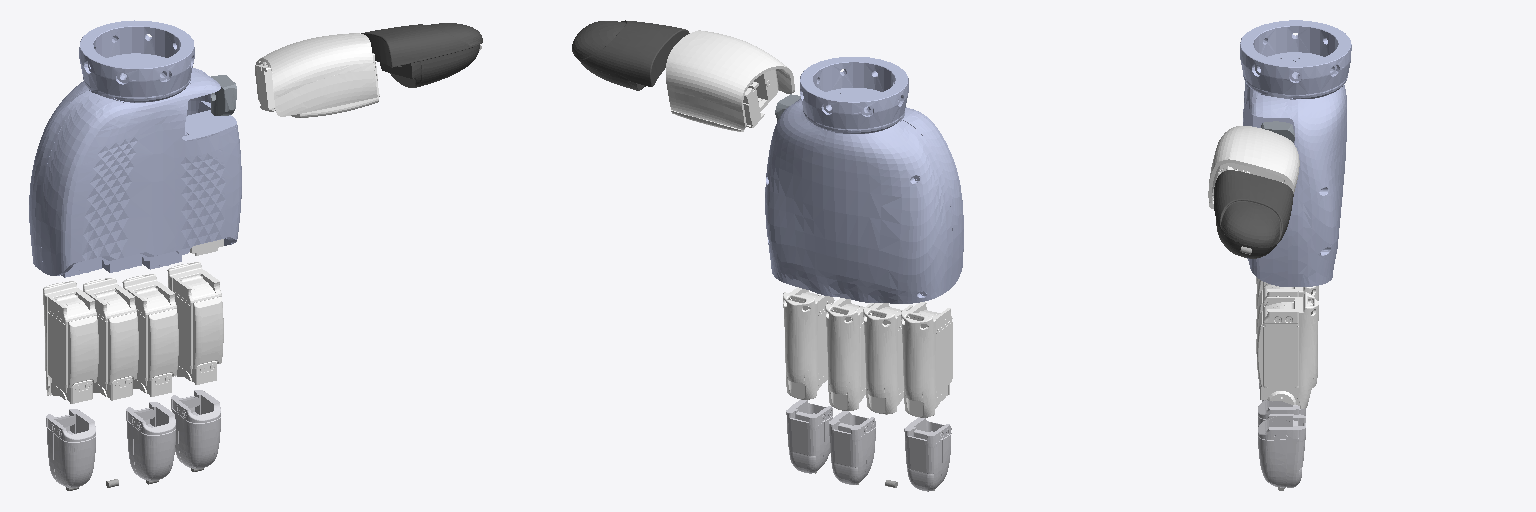
robot.urdf — xhand_left:
<?xml version="1.0" encoding="utf-8"?>
<!-- This URDF was automatically created by SolidWorks to URDF Exporter! Originally created by [author] ([email redacted]) 
     Commit Version: 1.6.0-4-g7f85cfe  Build Version: 1.6.7995.38578
     For more information, please see http://wiki.ros.org/sw_urdf_exporter -->
<robot name="xhand_left">
  <mujoco>
    <compiler meshdir="./meshes/" balanceinertia="true" discardvisual="false" />
  </mujoco>
  <link name="base_link">
  </link>
  <joint name="base_link_joint" type="fixed">
    <origin xyz="0 0 0.0" rpy="0 0 0" />
    <parent link="base_link" />
    <child link="left_hand_link" />
    <axis xyz="0 0 0" />
  </joint>
  <link name="left_hand_link">
    <inertial>
      <origin xyz="-0.00864938513630556 -0.00326690810975642 -0.0555569639549646" rpy="0 0 0" />
      <mass value="0.529944310592205" />
      <inertia ixx="0.000418985372588546" ixy="3.19284398454423E-06" ixz="-1.4224360742058E-05" iyy="0.000610580342357652" iyz="-2.24271246806261E-06" izz="0.000344172553571987" />
    </inertial>
    <visual>
      <origin xyz="0 0 0" rpy="0 0 0" />
      <geometry>
        <mesh filename="./meshes/left_hand_link.STL" />
      </geometry>
      <material name="">
        <color rgba="0.792156862745098 0.819607843137255 0.933333333333333 1" />
      </material>
    </visual>
    <collision>
      <origin xyz="0 0 0" rpy="0 0 0" />
      <geometry>
        <mesh filename="./meshes/left_hand_link.STL" />
      </geometry>
    </collision>
  </link>
  <link name="left_hand_ee_link">
    <inertial>
      <origin xyz="-1.69621793423315E-16 -7.89113564776902E-16 0" rpy="0 0 0" />
      <mass value="3.53429173528852E-08" />
      <inertia ixx="3.97607820219958E-14" ixy="2.1306062234609E-28" ixz="-6.0696092927852E-27" iyy="9.35114688295087E-14" iyz="2.40539124817171E-41" izz="9.35114688295086E-14" />
    </inertial>
    <visual>
      <origin xyz="0 0 0" rpy="0 0 0" />
      <geometry>
        <mesh filename="./meshes/left_hand_ee_link.STL" />
      </geometry>
      <material name="">
        <color rgba="0.698039215686274 0.698039215686274 0.698039215686274 1" />
      </material>
    </visual>
    <collision>
      <origin xyz="0 0 0" rpy="0 0 0" />
      <geometry>
        <mesh filename="./meshes/left_hand_ee_link.STL" />
      </geometry>
    </collision>
  </link>
  <joint name="left_hand_ee_joint" type="fixed">
    <origin xyz="0 0 -0.065" rpy="0 0 0" />
    <parent link="left_hand_link" />
    <child link="left_hand_ee_link" />
    <axis xyz="0 0 0" />
  </joint>
  <link name="left_hand_thumb_bend_link">
    <inertial>
      <origin xyz="0.0146951181783569 0.0010170558778431 0.000731323310503088" rpy="0 0 0" />
      <mass value="0.00988789386004912" />
      <inertia ixx="3.58716412139351E-07" ixy="-1.34105977059594E-08" ixz="-1.74484379968064E-08" iyy="2.30962520459155E-07" iyz="-2.48757133590212E-09" izz="2.11597841596506E-07" />
    </inertial>
    <visual>
      <origin xyz="0 0 0" rpy="0 0 0" />
      <geometry>
        <mesh filename="./meshes/left_hand_thumb_bend_link.STL" />
      </geometry>
      <material name="">
        <color rgba="0.615686274509804 0.643137254901961 0.674509803921569 1" />
      </material>
    </visual>
    <!-- <collision>
      <origin xyz="0 0 0" rpy="0 0 0" />
      <geometry>
        <mesh filename="./meshes/left_hand_thumb_bend_link.STL" />
      </geometry>
    </collision> -->
  </link>
  <joint name="left_hand_thumb_bend_joint" type="revolute">
    <origin xyz="0.0228 -0.0095 -0.0305" rpy="0 0 0" />
    <parent link="left_hand_link" />
    <child link="left_hand_thumb_bend_link" />
    <axis xyz="0 0 -1" />
    <limit lower="0" upper="1.83" effort="1.1" velocity="8.63" />
    <dynamics damping="1" friction="1" />
  </joint>
  <link name="left_hand_thumb_rota_link1">
    <inertial>
      <origin xyz="0.0287909625550219 -0.000242915671393474 0.00247391809705494" rpy="0 0 0" />
      <mass value="0.153155034156758" />
      <inertia ixx="2.78524098212563E-05" ixy="6.13812857719437E-07" ixz="-3.98638873366403E-07" iyy="2.82463477802506E-05" iyz="1.58606209561054E-07" izz="3.52591286553014E-05" />
    </inertial>
    <visual>
      <origin xyz="0 0 0" rpy="0 0 0" />
      <geometry>
        <mesh filename="./meshes/left_hand_thumb_rota_link1.STL" />
      </geometry>
      <material name="">
        <color rgba="1 1 1 1" />
      </material>
    </visual>
    <collision>
      <origin xyz="0 0 0" rpy="0 0 0" />
      <geometry>
        <mesh filename="./meshes/left_hand_thumb_rota_link1.STL" />
      </geometry>
    </collision>
  </link>
  <joint name="left_hand_thumb_rota_joint1" type="revolute">
    <origin xyz="0.0285986272129401 -0.00831765565268352 0.00177996188345445" rpy="-0.261799387798933 0 -0.0407002356493396" />
    <parent link="left_hand_thumb_bend_link" />
    <child link="left_hand_thumb_rota_link1" />
    <axis xyz="0 1 0" />
    <limit lower="-1.05" upper="1.57" effort="1.1" velocity="8.63" />
    <dynamics damping="1" friction="1" />
  </joint>
  <link name="left_hand_thumb_rota_link2">
    <inertial>
      <origin xyz="0.0246456234459003 2.69138722731738E-05 0.00357064212068477" rpy="0 0 0" />
      <mass value="0.0374005336514977" />
      <inertia ixx="3.92917396189104E-06" ixy="2.59293767017315E-09" ixz="6.44282025371109E-07" iyy="6.8488221061748E-06" iyz="6.06761479506332E-09" izz="7.99681697934097E-06" />
    </inertial>
    <visual>
      <origin xyz="0 0 0" rpy="0 0 0" />
      <geometry>
        <mesh filename="./meshes/left_hand_thumb_rota_link2.STL" />
      </geometry>
      <material name="">
        <color rgba="0.384313725490196 0.384313725490196 0.384313725490196 1" />
      </material>
    </visual>
    <collision>
      <origin xyz="0 0 0" rpy="0 0 0" />
      <geometry>
        <mesh filename="./meshes/left_hand_thumb_rota_link2.STL" />
      </geometry>
    </collision>
  </link>
  <joint name="left_hand_thumb_rota_joint2" type="revolute">
    <origin xyz="0.0552999999999999 0 0" rpy="0 0 0" />
    <parent link="left_hand_thumb_rota_link1" />
    <child link="left_hand_thumb_rota_link2" />
    <axis xyz="0 1 0" />
    <limit lower="-0.17" upper="1.83" effort="0.4" velocity="14.38" />
    <dynamics damping="1" friction="1" />
  </joint>
  <link name="left_hand_thumb_rota_tip">
    <inertial>
      <origin xyz="1.9728663147589E-13 8.24457366613296E-09 4.78089789979208E-15" rpy="0 0 0" />
      <mass value="3.53429173528852E-08" />
      <inertia ixx="9.35114688295088E-14" ixy="-4.24237404142101E-24" ixz="7.88860905221012E-31" iyy="3.97607820219958E-14" iyz="-1.27458623039275E-25" izz="9.35114688295087E-14" />
    </inertial>
    <visual>
      <origin xyz="0 0 0" rpy="0 0 0" />
      <geometry>
        <mesh filename="./meshes/left_hand_thumb_rota_tip.STL" />
      </geometry>
      <material name="">
        <color rgba="0.698039215686274 0.698039215686274 0.698039215686274 1" />
      </material>
    </visual>
    <collision>
      <origin xyz="0 0 0" rpy="0 0 0" />
      <geometry>
        <mesh filename="./meshes/left_hand_thumb_rota_tip.STL" />
      </geometry>
    </collision>
  </link>
  <joint name="left_hand_thumb_rota_joint3" type="fixed">
    <origin xyz="0.0504024555173588 0 0" rpy="0 0 0" />
    <parent link="left_hand_thumb_rota_link2" />
    <child link="left_hand_thumb_rota_tip" />
    <axis xyz="0 0 0" />
  </joint>
  <link name="left_hand_index_bend_link">
    <inertial>
      <origin xyz="-1.36538073638344E-05 -0.000296873462797107 0.0089696893565222" rpy="0 0 0" />
      <mass value="0.0678358392130179" />
      <inertia ixx="1.24579812319209E-05" ixy="-4.99427571322602E-10" ixz="-1.65009806493618E-08" iyy="1.16208585294442E-05" iyz="1.16944382314648E-06" izz="4.10931551097276E-06" />
    </inertial>
    <visual>
      <origin xyz="0 0 0" rpy="0 0 0" />
      <geometry>
        <mesh filename="./meshes/left_hand_index_bend_link.STL" />
      </geometry>
      <material name="">
        <color rgba="1 1 1 1" />
      </material>
    </visual>
    <!-- <collision>
      <origin xyz="0 0 0" rpy="0 0 0" />
      <geometry>
        <mesh filename="./meshes/left_hand_index_bend_link.STL" />
      </geometry>
    </collision> -->
  </link>
  <joint name="left_hand_index_bend_joint" type="revolute">
    <origin xyz="0.0265 -0.0065 -0.0899" rpy="0 0 0" />
    <parent link="left_hand_link" />
    <child link="left_hand_index_bend_link" />
    <axis xyz="0 -1 0" />
    <limit lower="-0.175" upper="0.175" effort="0.4" velocity="14.38" />
    <dynamics damping="1" friction="1" />
  </joint>
  <link name="left_hand_index_rota_link1">
    <inertial>
      <origin xyz="-1.33092584226023E-05 0.00117935465893214 -0.0314667592065465" rpy="0 0 0" />
      <mass value="0.0630023008144735" />
      <inertia ixx="1.2745607748276E-05" ixy="1.11697612170963E-08" ixz="-6.33464596137012E-08" iyy="1.13159526064873E-05" iyz="-7.4065747898706E-08" izz="3.96846238389722E-06" />
    </inertial>
    <visual>
      <origin xyz="0 0 0" rpy="0 0 0" />
      <geometry>
        <mesh filename="./meshes/left_hand_index_rota_link1.STL" />
      </geometry>
      <material name="">
        <color rgba="1 1 1 1" />
      </material>
    </visual>
    <collision>
      <origin xyz="0 0 0" rpy="0 0 0" />
      <geometry>
        <mesh filename="./meshes/left_hand_index_rota_link1.STL" />
      </geometry>
    </collision>
  </link>
  <joint name="left_hand_index_joint1" type="revolute">
    <origin xyz="0 0 -0.0178" rpy="0 0 0" />
    <parent link="left_hand_index_bend_link" />
    <child link="left_hand_index_rota_link1" />
    <axis xyz="-1 0 0" />
    <limit lower="0" upper="1.92" effort="1.1" velocity="8.63" />
    <dynamics damping="1" friction="1" />
  </joint>
  <link name="left_hand_index_rota_link2">
    <inertial>
      <origin xyz="0.000105984925146081 0.000552347223597082 -0.0269533774742111" rpy="0 0 0" />
      <mass value="0.017978306795458" />
      <inertia ixx="1.57447652114977E-06" ixy="2.76146301079716E-09" ixz="-2.28756514380631E-08" iyy="1.41206918399455E-06" iyz="-7.17000486348478E-09" izz="9.25906469018155E-07" />
    </inertial>
    <visual>
      <origin xyz="0 0 0" rpy="0 0 0" />
      <geometry>
        <mesh filename="./meshes/left_hand_index_rota_link2.STL" />
      </geometry>
      <material name="">
        <color rgba="0.866666666666667 0.866666666666667 0.890196078431372 1" />
      </material>
    </visual>
    <collision>
      <origin xyz="0 0 0" rpy="0 0 0" />
      <geometry>
        <mesh filename="./meshes/left_hand_index_rota_link2.STL" />
      </geometry>
    </collision>
  </link>
  <joint name="left_hand_index_joint2" type="revolute">
    <origin xyz="0 0 -0.0558" rpy="0 0 0" />
    <parent link="left_hand_index_rota_link1" />
    <child link="left_hand_index_rota_link2" />
    <axis xyz="-1 0 0" />
    <limit lower="0" upper="1.92" effort="0.4" velocity="14.38" />
    <dynamics damping="1" friction="1" />
  </joint>
  <link name="left_hand_index_rota_tip">
    <inertial>
      <origin xyz="-9.29811783123569E-16 -2.63938176869871E-15 -8.32667268468867E-17" rpy="0 0 0" />
      <mass value="3.53429173528852E-08" />
      <inertia ixx="3.97607820219958E-14" ixy="2.0659827381052E-28" ixz="2.52777196678214E-29" iyy="9.35114688295087E-14" iyz="-1.34524652575182E-43" izz="9.35114688295087E-14" />
    </inertial>
    <visual>
      <origin xyz="0 0 0" rpy="0 0 0" />
      <geometry>
        <mesh filename="./meshes/left_hand_index_rota_tip.STL" />
      </geometry>
      <material name="">
        <color rgba="0.698039215686274 0.698039215686274 0.698039215686274 1" />
      </material>
    </visual>
    <collision>
      <origin xyz="0 0 0" rpy="0 0 0" />
      <geometry>
        <mesh filename="./meshes/left_hand_index_rota_tip.STL" />
      </geometry>
    </collision>
  </link>
  <joint name="left_hand_index_rota_joint3" type="fixed">
    <origin xyz="0 0 -0.0424999999999999" rpy="0 0 0" />
    <parent link="left_hand_index_rota_link2" />
    <child link="left_hand_index_rota_tip" />
    <axis xyz="0 0 0" />
  </joint>
  <link name="left_hand_mid_link1">
    <inertial>
      <origin xyz="-1.33093186277912E-05 0.00117935480050193 -0.0314667591863722" rpy="0 0 0" />
      <mass value="0.0630023022013301" />
      <inertia ixx="1.27456081957855E-05" ixy="1.11697922297878E-08" ixz="-6.33466790814787E-08" iyy="1.13159531276305E-05" iyz="-7.40657415672241E-08" izz="3.96846251967624E-06" />
    </inertial>
    <visual>
      <origin xyz="0 0 0" rpy="0 0 0" />
      <geometry>
        <mesh filename="./meshes/left_hand_mid_link1.STL" />
      </geometry>
      <material name="">
        <color rgba="1 1 1 1" />
      </material>
    </visual>
    <collision>
      <origin xyz="0 0 0" rpy="0 0 0" />
      <geometry>
        <mesh filename="./meshes/left_hand_mid_link1.STL" />
      </geometry>
    </collision>
  </link>
  <joint name="left_hand_mid_joint1" type="revolute">
    <origin xyz="0.004 -0.0065 -0.1082" rpy="0 0 0" />
    <parent link="left_hand_link" />
    <child link="left_hand_mid_link1" />
    <axis xyz="-1 0 0" />
    <limit lower="0" upper="1.92" effort="1.1" velocity="8.63" />
    <dynamics damping="1" friction="1" />
  </joint>
  <link name="left_hand_mid_link2">
    <inertial>
      <origin xyz="0.000105984928455458 0.000552347222436347 -0.0269533774807861" rpy="0 0 0" />
      <mass value="0.0179783068080897" />
      <inertia ixx="1.57447652237869E-06" ixy="2.76146317048659E-09" ixz="-2.28756508518856E-08" iyy="1.41206918545466E-06" iyz="-7.17000503278344E-09" izz="9.25906469321219E-07" />
    </inertial>
    <visual>
      <origin xyz="0 0 0" rpy="0 0 0" />
      <geometry>
        <mesh filename="./meshes/left_hand_mid_link2.STL" />
      </geometry>
      <material name="">
        <color rgba="0.866666666666667 0.866666666666667 0.890196078431372 1" />
      </material>
    </visual>
    <collision>
      <origin xyz="0 0 0" rpy="0 0 0" />
      <geometry>
        <mesh filename="./meshes/left_hand_mid_link2.STL" />
      </geometry>
    </collision>
  </link>
  <joint name="left_hand_mid_joint2" type="revolute">
    <origin xyz="0 0 -0.0558" rpy="0 0 0" />
    <parent link="left_hand_mid_link1" />
    <child link="left_hand_mid_link2" />
    <axis xyz="-1 0 0" />
    <limit lower="0" upper="1.92" effort="0.4" velocity="14.38" />
    <dynamics damping="1" friction="1" />
  </joint>
  <link name="left_hand_mid_tip">
    <inertial>
      <origin xyz="-5.69856661858381E-16 2.09944908680093E-14 -2.4980018054066E-16" rpy="0 0 0" />
      <mass value="3.53429173528852E-08" />
      <inertia ixx="3.97607820219958E-14" ixy="2.08752389989043E-28" ixz="2.52777196678215E-29" iyy="9.35114688295087E-14" iyz="-1.79366203433577E-43" izz="9.35114688295086E-14" />
    </inertial>
    <visual>
      <origin xyz="0 0 0" rpy="0 0 0" />
      <geometry>
        <mesh filename="./meshes/left_hand_mid_tip.STL" />
      </geometry>
      <material name="">
        <color rgba="0.698039215686274 0.698039215686274 0.698039215686274 1" />
      </material>
    </visual>
    <collision>
      <origin xyz="0 0 0" rpy="0 0 0" />
      <geometry>
        <mesh filename="./meshes/left_hand_mid_tip.STL" />
      </geometry>
    </collision>
  </link>
  <joint name="left_hand_mid_joint3" type="fixed">
    <origin xyz="0 0 -0.042500000000001" rpy="0 0 0" />
    <parent link="left_hand_mid_link2" />
    <child link="left_hand_mid_tip" />
    <axis xyz="0 0 0" />
  </joint>
  <link name="left_hand_ring_link1">
    <inertial>
      <origin xyz="-1.33096483662491E-05 0.00117935450409436 -0.0314667596675611" rpy="0 0 0" />
      <mass value="0.0630023002480442" />
      <inertia ixx="1.27456074975177E-05" ixy="1.11699975266944E-08" ixz="-6.33465151788219E-08" iyy="1.13159525096134E-05" iyz="-7.40654037517664E-08" izz="3.96846226001982E-06" />
    </inertial>
    <visual>
      <origin xyz="0 0 0" rpy="0 0 0" />
      <geometry>
        <mesh filename="./meshes/left_hand_ring_link1.STL" />
      </geometry>
      <material name="">
        <color rgba="1 1 1 1" />
      </material>
    </visual>
    <collision>
      <origin xyz="0 0 0" rpy="0 0 0" />
      <geometry>
        <mesh filename="./meshes/left_hand_ring_link1.STL" />
      </geometry>
    </collision>
  </link>
  <joint name="left_hand_ring_joint1" type="revolute">
    <origin xyz="-0.016 -0.0065 -0.1052" rpy="0 0 0" />
    <parent link="left_hand_link" />
    <child link="left_hand_ring_link1" />
    <axis xyz="-1 0 0" />
    <limit lower="0" upper="1.92" effort="1.1" velocity="8.63" />
    <dynamics damping="1" friction="1" />
  </joint>
  <link name="left_hand_ring_link2">
    <inertial>
      <origin xyz="0.000105984925353953 0.00055234722341907 -0.0269533774746112" rpy="0 0 0" />
      <mass value="0.0179783067963059" />
      <inertia ixx="1.57447652123335E-06" ixy="2.76146302722388E-09" ixz="-2.2875651400635E-08" iyy="1.41206918407907E-06" iyz="-7.17000489119851E-09" izz="9.25906469042038E-07" />
    </inertial>
    <visual>
      <origin xyz="0 0 0" rpy="0 0 0" />
      <geometry>
        <mesh filename="./meshes/left_hand_ring_link2.STL" />
      </geometry>
      <material name="">
        <color rgba="0.866666666666667 0.866666666666667 0.890196078431372 1" />
      </material>
    </visual>
    <collision>
      <origin xyz="0 0 0" rpy="0 0 0" />
      <geometry>
        <mesh filename="./meshes/left_hand_ring_link2.STL" />
      </geometry>
    </collision>
  </link>
  <joint name="left_hand_ring_joint2" type="revolute">
    <origin xyz="0 0 -0.0558" rpy="0 0 0" />
    <parent link="left_hand_ring_link1" />
    <child link="left_hand_ring_link2" />
    <axis xyz="-1 0 0" />
    <limit lower="0" upper="1.92" effort="0.4" velocity="14.38" />
    <dynamics damping="1" friction="1" />
  </joint>
  <link name="left_hand_ring_tip">
    <inertial>
      <origin xyz="-5.41233724504764E-16 -5.26488574958961E-16 -2.22044604925031E-16" rpy="0 0 0" />
      <mass value="3.53429173528852E-08" />
      <inertia ixx="3.97607820219958E-14" ixy="2.08752389989043E-28" ixz="2.52777196678215E-29" iyy="9.35114688295087E-14" iyz="-1.79366203433577E-43" izz="9.35114688295087E-14" />
    </inertial>
    <visual>
      <origin xyz="0 0 0" rpy="0 0 0" />
      <geometry>
        <mesh filename="./meshes/left_hand_ring_tip.STL" />
      </geometry>
      <material name="">
        <color rgba="0.698039215686274 0.698039215686274 0.698039215686274 1" />
      </material>
    </visual>
    <collision>
      <origin xyz="0 0 0" rpy="0 0 0" />
      <geometry>
        <mesh filename="./meshes/left_hand_ring_tip.STL" />
      </geometry>
    </collision>
  </link>
  <joint name="left_hand_ring_joint3" type="fixed">
    <origin xyz="0 0 -0.0424999999999995" rpy="0 0 0" />
    <parent link="left_hand_ring_link2" />
    <child link="left_hand_ring_tip" />
    <axis xyz="0 0 0" />
  </joint>
  <link name="left_hand_pinky_link1">
    <inertial>
      <origin xyz="-1.33096859500845E-05 0.00117935408946108 -0.0314667601427276" rpy="0 0 0" />
      <mass value="0.0630022982822898" />
      <inertia ixx="1.27456068030847E-05" ixy="1.11700454508605E-08" ixz="-6.33463944280954E-08" iyy="1.13159521295488E-05" iyz="-7.40650389817798E-08" izz="3.9684619246592E-06" />
    </inertial>
    <visual>
      <origin xyz="0 0 0" rpy="0 0 0" />
      <geometry>
        <mesh filename="./meshes/left_hand_pinky_link1.STL" />
      </geometry>
      <material name="">
        <color rgba="1 1 1 1" />
      </material>
    </visual>
    <collision>
      <origin xyz="0 0 0" rpy="0 0 0" />
      <geometry>
        <mesh filename="./meshes/left_hand_pinky_link1.STL" />
      </geometry>
    </collision>
  </link>
  <joint name="left_hand_pinky_joint1" type="revolute">
    <origin xyz="-0.036 -0.0065 -0.1022" rpy="0 0 0" />
    <parent link="left_hand_link" />
    <child link="left_hand_pinky_link1" />
    <axis xyz="-1 0 0" />
    <limit lower="0" upper="1.92" effort="1.1" velocity="8.63" />
    <dynamics damping="1" friction="1" />
  </joint>
  <link name="left_hand_pinky_link2">
    <inertial>
      <origin xyz="0.000105984925057048 0.000552347223524425 -0.0269533774743773" rpy="0 0 0" />
      <mass value="0.0179783067958151" />
      <inertia ixx="1.57447652118483E-06" ixy="2.76146300285892E-09" ixz="-2.28756514521984E-08" iyy="1.41206918402886E-06" iyz="-7.1700048779914E-09" izz="9.25906469033028E-07" />
    </inertial>
    <visual>
      <origin xyz="0 0 0" rpy="0 0 0" />
      <geometry>
        <mesh filename="./meshes/left_hand_pinky_link2.STL" />
      </geometry>
      <material name="">
        <color rgba="0.866666666666667 0.866666666666667 0.890196078431372 1" />
      </material>
    </visual>
    <collision>
      <origin xyz="0 0 0" rpy="0 0 0" />
      <geometry>
        <mesh filename="./meshes/left_hand_pinky_link2.STL" />
      </geometry>
    </collision>
  </link>
  <joint name="left_hand_pinky_joint2" type="revolute">
    <origin xyz="0 0 -0.0558" rpy="0 0 0" />
    <parent link="left_hand_pinky_link1" />
    <child link="left_hand_pinky_link2" />
    <axis xyz="-1 0 0" />
    <limit lower="0" upper="1.92" effort="0.4" velocity="14.38" />
    <dynamics damping="1" friction="1" />
  </joint>
  <link name="left_hand_pinky_tip">
    <inertial>
      <origin xyz="-5.34294830600857E-16 -3.06005221162309E-15 -1.38777878078145E-16" rpy="0 0 0" />
      <mass value="3.53429173528851E-08" />
      <inertia ixx="3.97607820219958E-14" ixy="2.08752389989043E-28" ixz="2.52777196678213E-29" iyy="9.35114688295085E-14" iyz="-1.79366203433577E-43" izz="9.35114688295085E-14" />
    </inertial>
    <visual>
      <origin xyz="0 0 0" rpy="0 0 0" />
      <geometry>
        <mesh filename="./meshes/left_hand_pinky_tip.STL" />
      </geometry>
      <material name="">
        <color rgba="0.698039215686274 0.698039215686274 0.698039215686274 1" />
      </material>
    </visual>
    <collision>
      <origin xyz="0 0 0" rpy="0 0 0" />
      <geometry>
        <mesh filename="./meshes/left_hand_pinky_tip.STL" />
      </geometry>
    </collision>
  </link>
  <joint name="left_hand_pinky_joint3" type="fixed">
    <origin xyz="0 0 -0.0425" rpy="0 0 0" />
    <parent link="left_hand_pinky_link2" />
    <child link="left_hand_pinky_tip" />
    <axis xyz="0 0 0" />
  </joint>
</robot>

--- Facts derived from the render (not from the file) ---
The picture shows the robot from 3 angles, left to right: view 1: azimuth 30°, elevation 25°; view 2: azimuth 150°, elevation 25°; view 3: azimuth 270°, elevation 25°; orthographic projection.
Robot: xhand_left — 20 links, 19 joints (12 revolute, 7 fixed); root link base_link; default pose: all joints at 0.
Visible links, largest first — view 1: left_hand_link, left_hand_thumb_rota_link1, left_hand_pinky_link1, left_hand_thumb_rota_link2, left_hand_index_rota_link1, left_hand_ring_link1, left_hand_mid_link1, left_hand_mid_link2, left_hand_pinky_link2, left_hand_index_rota_link2, left_hand_thumb_bend_link; view 2: left_hand_link, left_hand_thumb_rota_link1, left_hand_thumb_rota_link2, left_hand_pinky_link1, left_hand_index_rota_link1, left_hand_mid_link1, left_hand_ring_link1, left_hand_mid_link2, left_hand_pinky_link2, left_hand_index_rota_link2; view 3: left_hand_link, left_hand_index_rota_link1, left_hand_thumb_rota_link2, left_hand_thumb_rota_link1, left_hand_index_rota_link2, left_hand_mid_link1, left_hand_mid_link2.
Boxes of the visible links, x1,y1,x2,y2 form: left_hand_link: [29, 20, 241, 277]; left_hand_thumb_rota_link1: [255, 33, 379, 117]; left_hand_pinky_link1: [43, 281, 98, 403]; left_hand_thumb_rota_link2: [361, 23, 482, 87]; left_hand_index_rota_link1: [167, 262, 223, 384]; left_hand_ring_link1: [83, 278, 138, 400]; left_hand_mid_link1: [122, 274, 178, 396]; left_hand_mid_link2: [126, 402, 175, 480]; left_hand_pinky_link2: [46, 409, 95, 487]; left_hand_index_rota_link2: [171, 390, 220, 468]; left_hand_thumb_bend_link: [211, 75, 236, 115]; left_hand_link: [765, 57, 963, 303]; left_hand_thumb_rota_link1: [666, 30, 794, 131]; left_hand_thumb_rota_link2: [572, 20, 689, 90]; left_hand_pinky_link1: [901, 302, 952, 417]; left_hand_index_rota_link1: [783, 287, 834, 399]; left_hand_mid_link1: [825, 298, 874, 410]; left_hand_ring_link1: [863, 303, 912, 414]; left_hand_mid_link2: [829, 411, 875, 484]; left_hand_pinky_link2: [904, 417, 951, 491]; left_hand_index_rota_link2: [786, 399, 832, 473]; left_hand_link: [1240, 20, 1351, 286]; left_hand_index_rota_link1: [1256, 292, 1318, 408]; left_hand_thumb_rota_link2: [1214, 170, 1293, 258]; left_hand_thumb_rota_link1: [1208, 126, 1299, 208]; left_hand_index_rota_link2: [1258, 414, 1305, 487]; left_hand_mid_link1: [1256, 283, 1318, 333]; left_hand_mid_link2: [1258, 400, 1305, 425].
Size in the robot's own frame: 0.2091 by 0.0641 by 0.208 metres.
Meshes: 19 distinct files referenced, 18 mesh visuals loaded (18 binary STL); not drawn: 1 (reference not matched to a file when rendering).
